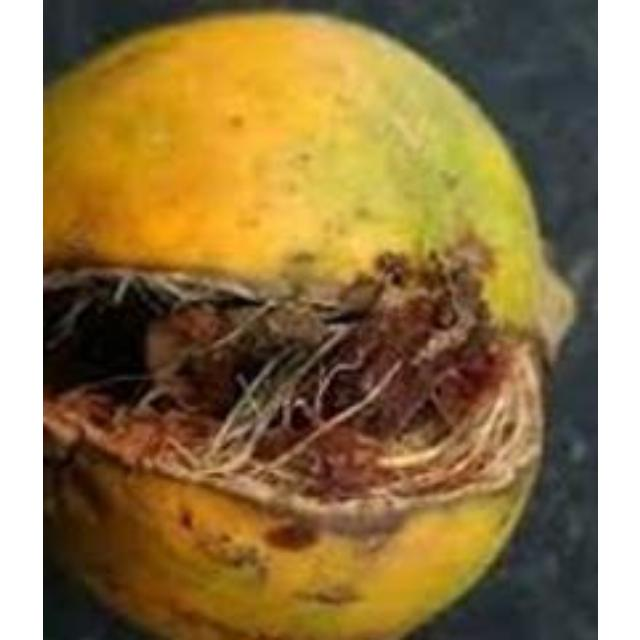damaged: (42, 11, 578, 637)
